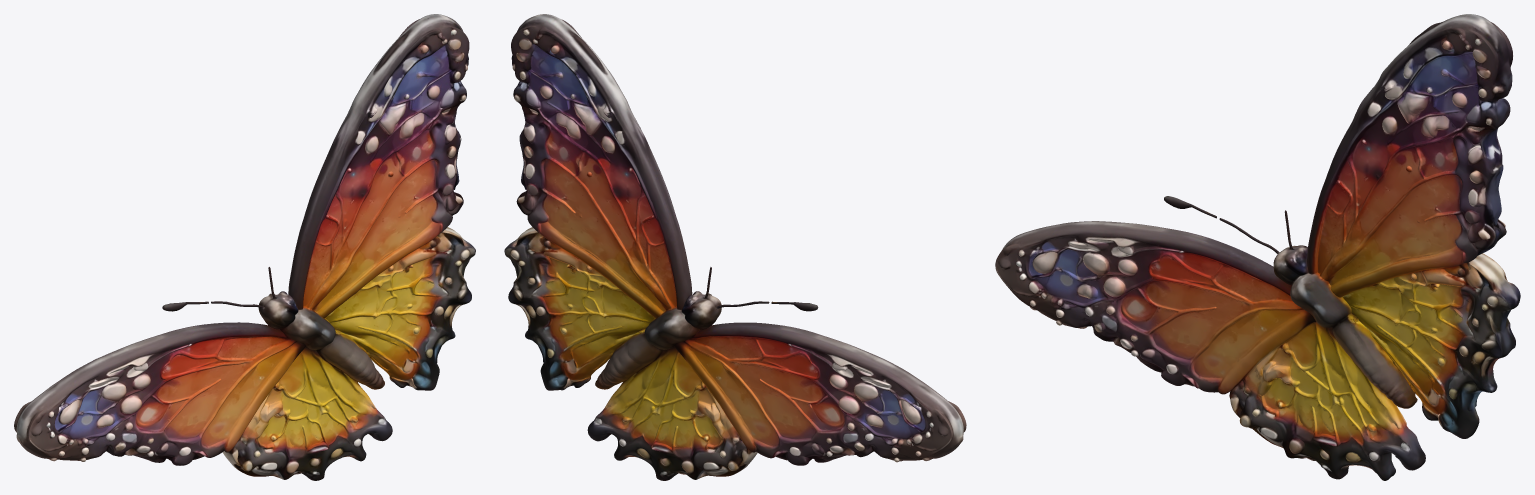
Rendered from butterfly.glb.
3 views of the same model, side by side, from view 1: azimuth 30°, elevation 25°; view 2: azimuth 150°, elevation 25°; view 3: azimuth 330°, elevation 25° (orthographic). The views are drawn at different scales.
Visible parts, largest first — view 1: tripo_node_47429166-dc9c-4246-852e-1f01f04c6c97; view 2: tripo_node_47429166-dc9c-4246-852e-1f01f04c6c97; view 3: tripo_node_47429166-dc9c-4246-852e-1f01f04c6c97.
Part boxes in pixels (<box>): tripo_node_47429166-dc9c-4246-852e-1f01f04c6c97: <box>14,14,475,480</box>; tripo_node_47429166-dc9c-4246-852e-1f01f04c6c97: <box>504,14,966,480</box>; tripo_node_47429166-dc9c-4246-852e-1f01f04c6c97: <box>995,14,1520,480</box>.
Bounding box in the file's own units: 1 × 0.9122 × 0.1128.
1 material, 1 textured.
